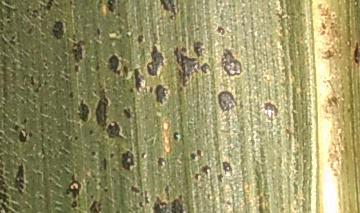tarspot: (172, 45, 198, 92), (93, 88, 110, 132), (220, 47, 243, 78), (152, 193, 186, 213), (145, 42, 165, 76), (215, 88, 238, 114), (103, 120, 129, 142), (12, 161, 26, 196), (64, 174, 83, 198), (157, 1, 178, 22), (153, 81, 170, 106), (119, 149, 137, 172), (70, 40, 86, 64), (106, 52, 121, 76), (191, 38, 208, 58), (77, 98, 90, 124), (263, 101, 281, 119), (133, 65, 144, 93), (51, 19, 65, 40), (352, 39, 360, 66), (87, 199, 102, 213), (255, 194, 266, 213), (220, 159, 233, 175), (198, 60, 212, 74), (122, 106, 134, 121), (282, 125, 294, 140), (16, 132, 29, 145), (104, 1, 117, 14), (171, 130, 184, 143), (155, 155, 168, 168), (214, 24, 226, 37), (199, 164, 212, 176), (163, 183, 171, 201), (135, 31, 144, 46), (43, 1, 54, 12), (130, 184, 141, 195), (187, 151, 198, 161), (93, 27, 102, 39), (122, 63, 129, 78), (69, 200, 79, 210), (24, 25, 33, 36), (144, 188, 150, 204), (72, 64, 81, 74), (28, 76, 37, 86), (87, 126, 95, 137), (140, 150, 148, 161), (102, 158, 108, 172), (12, 123, 21, 132), (31, 8, 39, 18), (136, 200, 146, 208), (193, 171, 201, 180), (147, 83, 153, 94), (67, 91, 75, 99), (21, 116, 29, 124), (194, 147, 202, 155), (94, 62, 100, 72), (216, 173, 222, 183), (53, 2, 60, 10), (90, 150, 97, 157), (103, 185, 109, 193), (27, 131, 34, 137), (109, 152, 115, 159), (89, 193, 95, 200), (115, 11, 122, 17), (73, 135, 79, 141), (19, 98, 25, 104), (25, 7, 30, 14), (34, 88, 40, 93), (86, 180, 91, 186), (68, 1, 74, 6), (129, 87, 134, 93)
